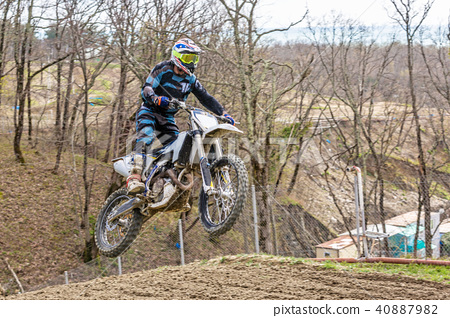helmet: (172, 36, 205, 77)
